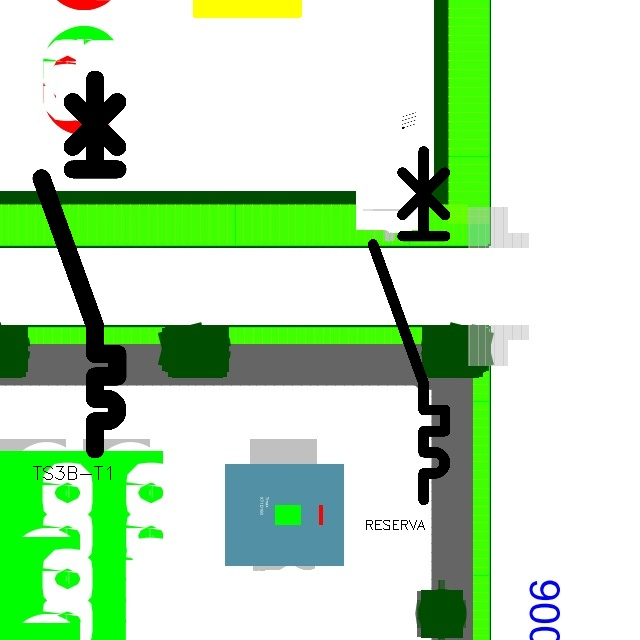interruptor_termomagnetico: (32, 70, 127, 459), (364, 142, 454, 508)
